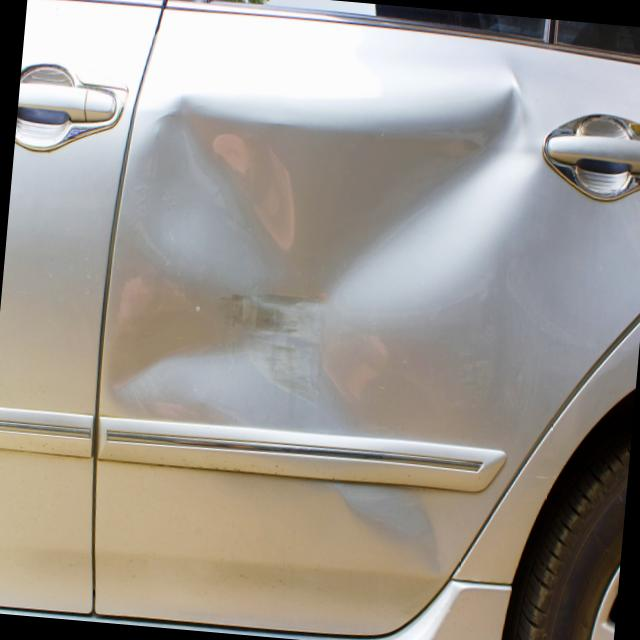Cabossage: (105, 27, 535, 457)
